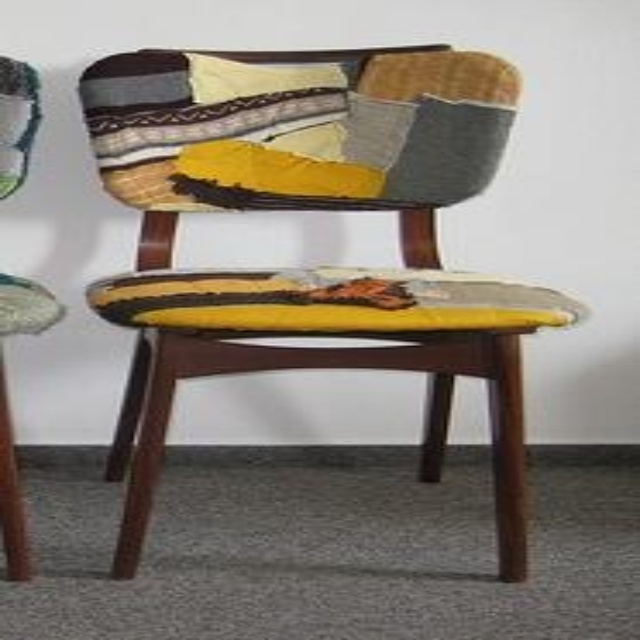obstacle: (79, 46, 582, 579)
